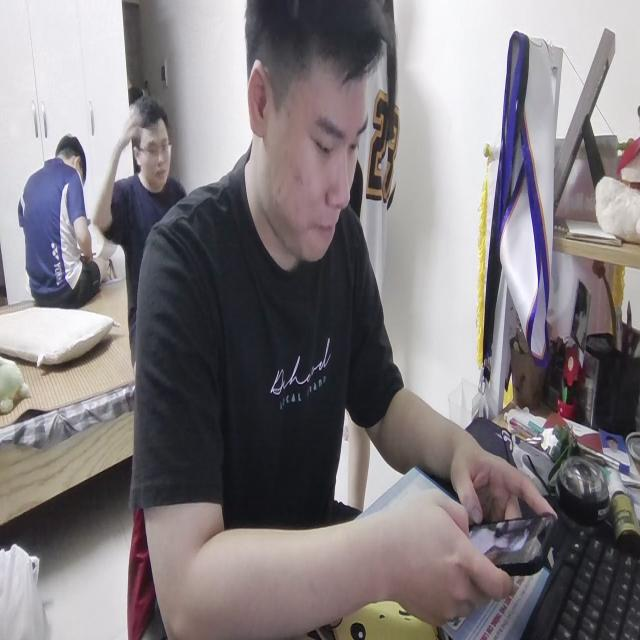extra_person: (96, 90, 191, 296), (24, 122, 99, 316)
phone: (459, 504, 558, 582)
student: (128, 0, 554, 640)
